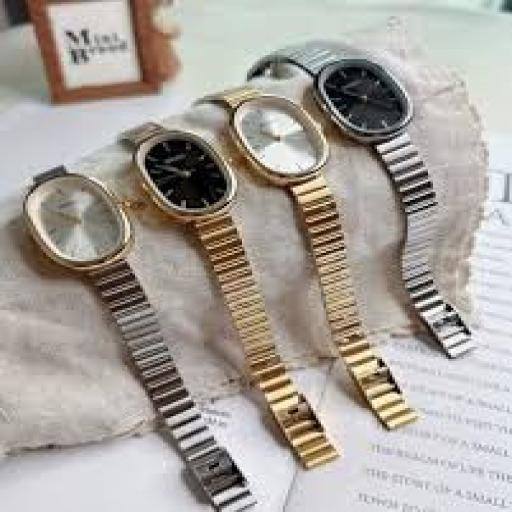KolSaati: (311, 52, 457, 156), (6, 166, 130, 286), (215, 90, 339, 192), (128, 132, 228, 224)
